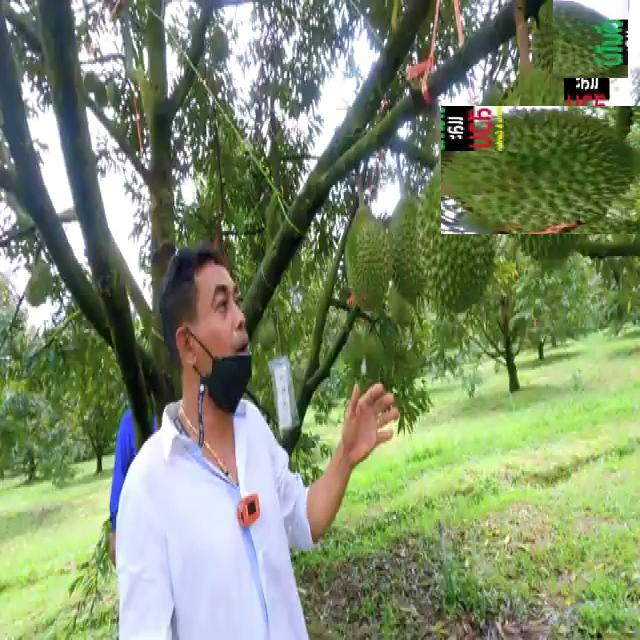durian: (461, 86, 629, 254), (412, 153, 499, 319), (552, 0, 630, 77), (384, 190, 435, 303), (341, 207, 392, 317)
